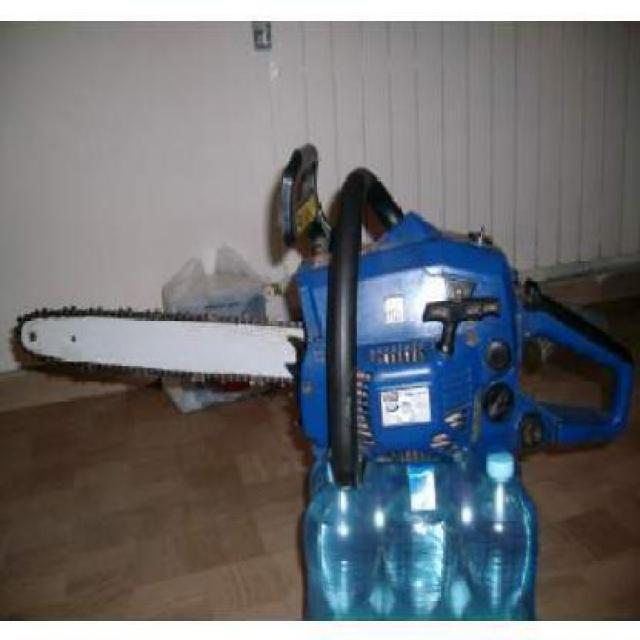Chainsaw: (9, 140, 636, 494)
